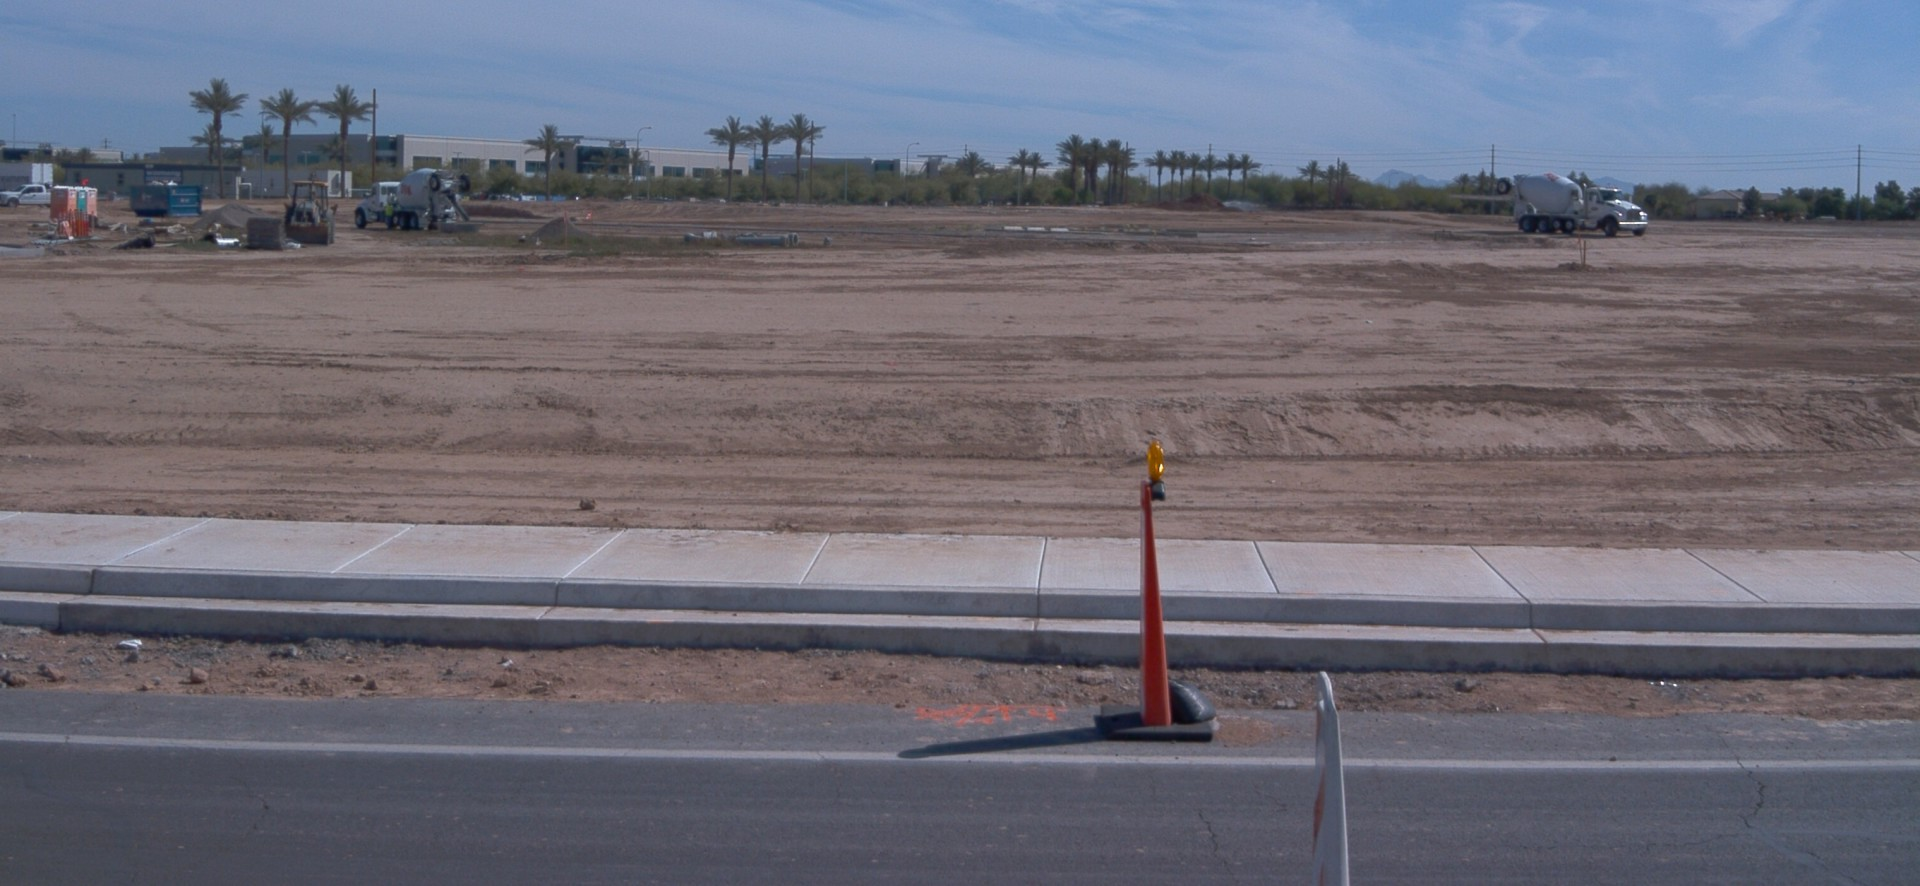TYPE_PEDESTRIAN: (380, 199, 396, 231)
TYPE_VEHICLE: (1498, 170, 1653, 237), (354, 164, 476, 230), (279, 180, 342, 247), (0, 159, 54, 198), (0, 184, 48, 208)
